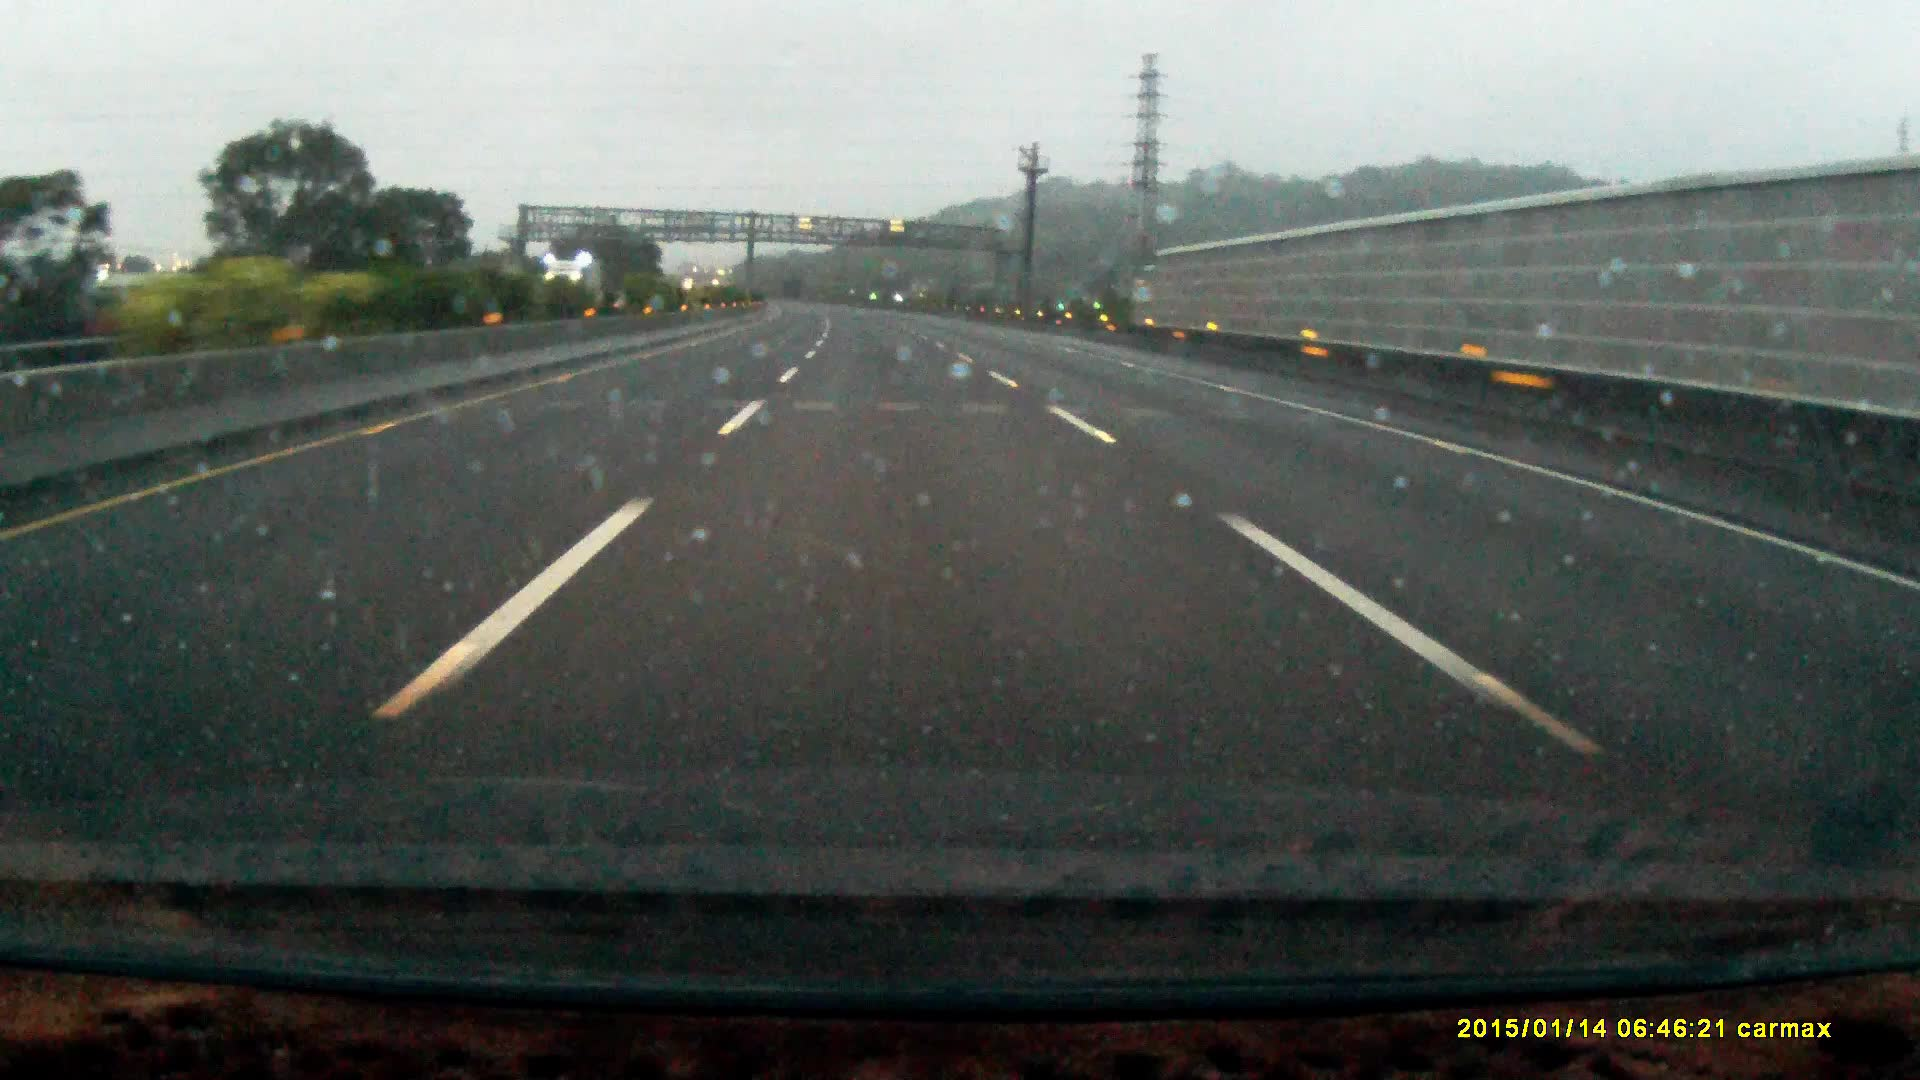vehicle: (542, 260, 600, 316)
